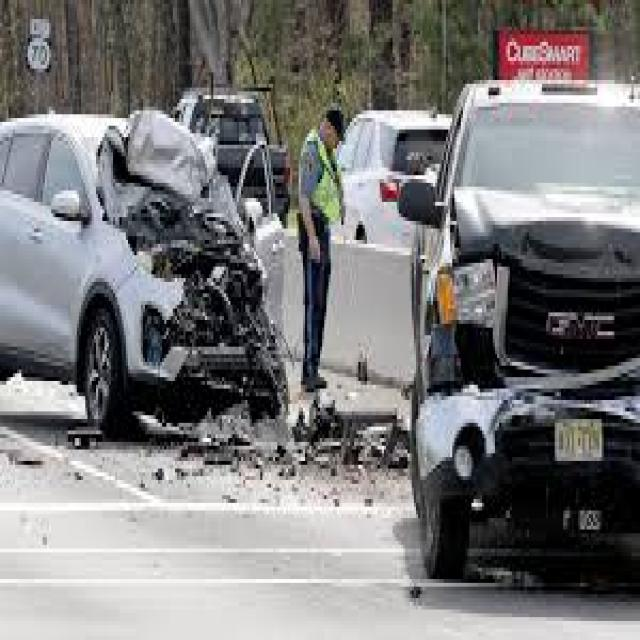accident: (0, 98, 299, 465)
